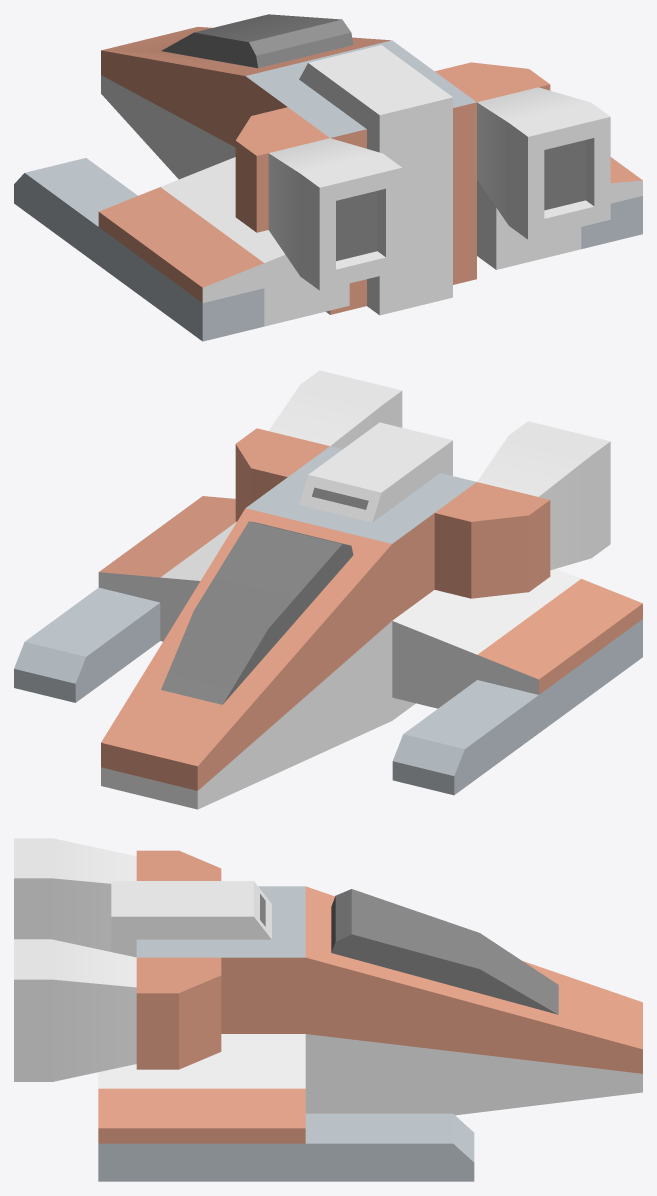
The model's file is spaceCraft3.glb.
3 renders of one model, top to bottom at view 1: azimuth 30°, elevation 25°; view 2: azimuth 150°, elevation 25°; view 3: azimuth 270°, elevation 25°, orthographic.
Parts seen in each view (by area): view 1: spaceCraft3_8angles; view 2: spaceCraft3_8angles; view 3: spaceCraft3_8angles.
Boxes of the visible parts, box(x1,y1,x2,y2) form: spaceCraft3_8angles: box(14, 14, 642, 341); spaceCraft3_8angles: box(14, 370, 642, 809); spaceCraft3_8angles: box(14, 838, 642, 1181).
Size of the model in its own units: 11.85 by 5.15 by 14.72.
